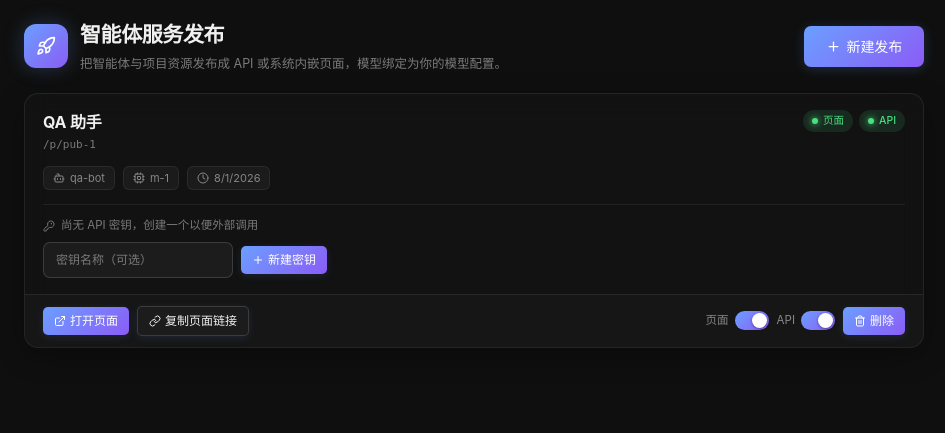
PublishesPage › shows the copied badge only after the copy succeeds
In the field with placeholder "密钥名称（可选）": (138, 260) [43,242,233,278], type "prod"
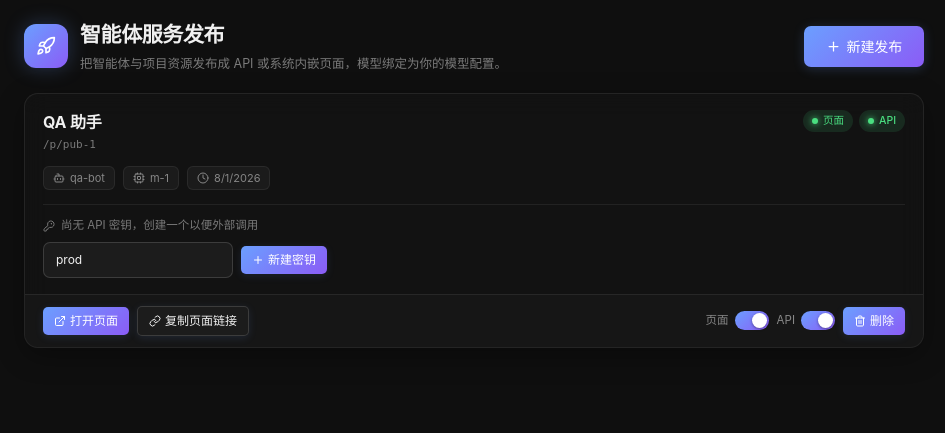
Press Enter in the field, box [43,242,233,278]
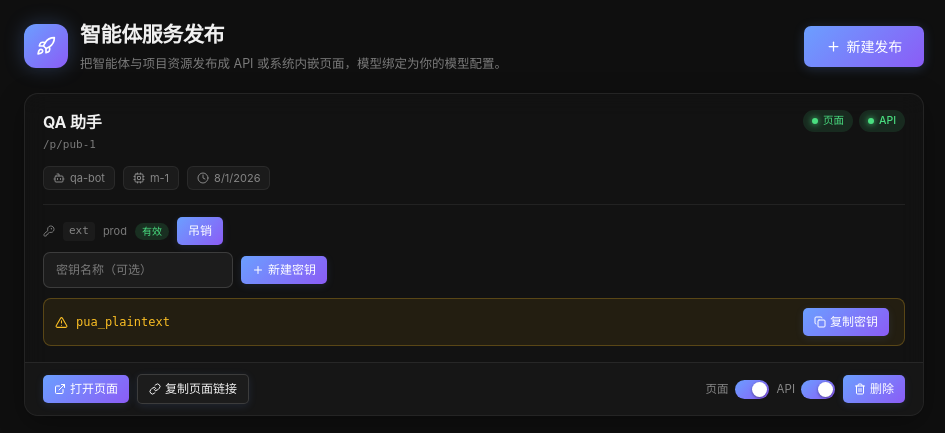
Expected: the element showing "pua_plaintext 复制密钥" is shown, [43,298,905,346]
Click the button "复制密钥": (846, 322) [803,308,889,336]
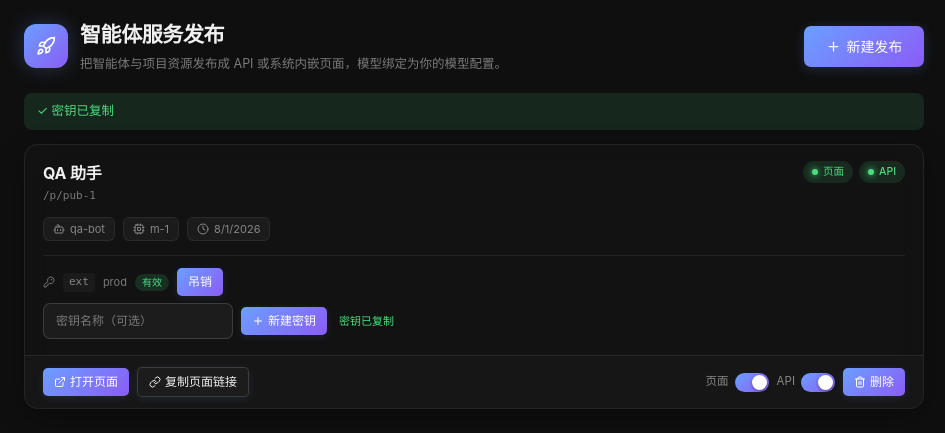
Expected: the text "密钥已复制" is shown, [339,313,394,329]
